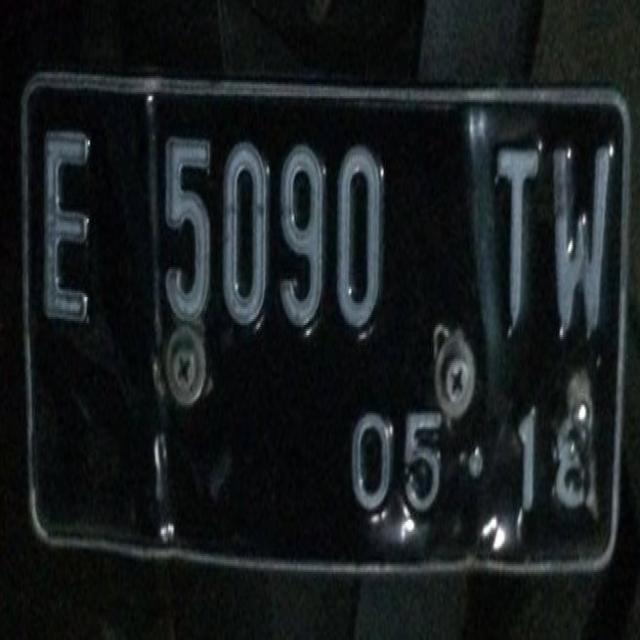plate: (20, 66, 629, 574)
